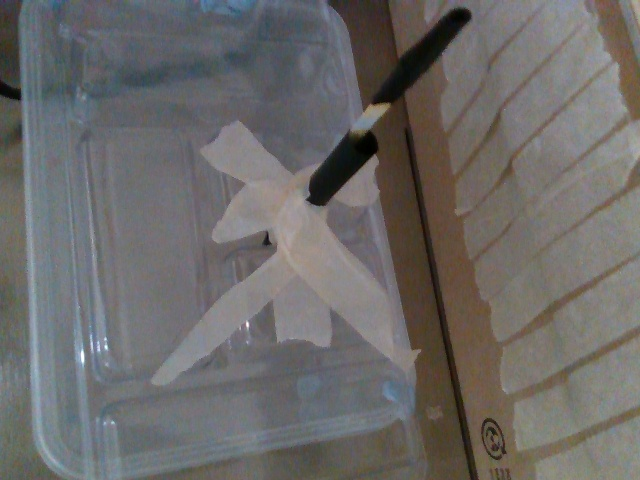test_strip: (346, 5, 471, 138)
